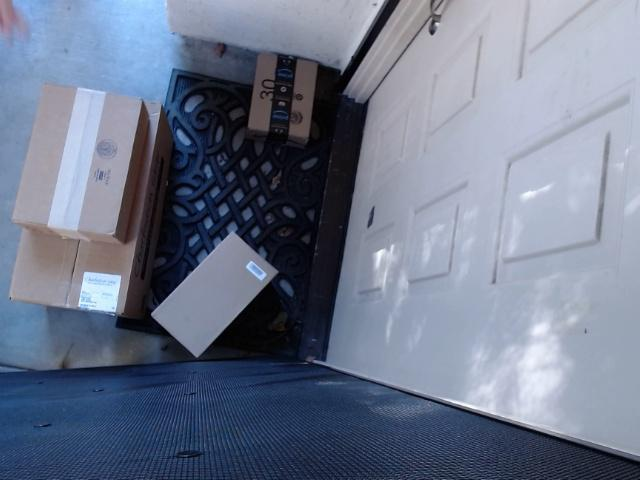box: (0, 70, 187, 314), (10, 68, 168, 254), (155, 226, 294, 356), (248, 44, 341, 162)
